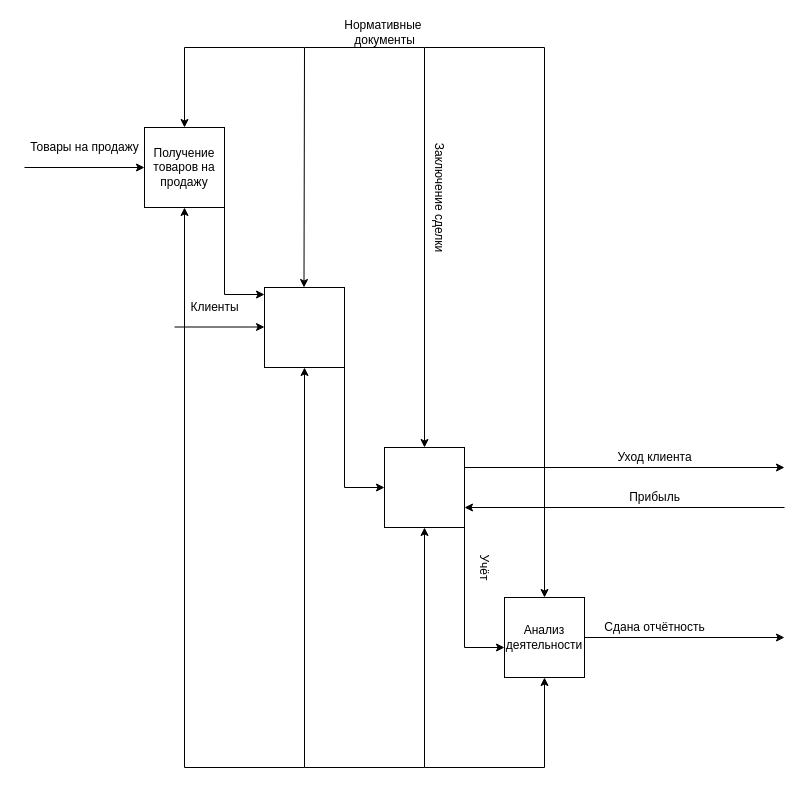
Some shapes in this 810 by 793 pixel diagram are drawn without their labels. Each missing label, with the centre of its shape:
Продажа товара: (424,487)
Работа с клиентами: (304,327)
